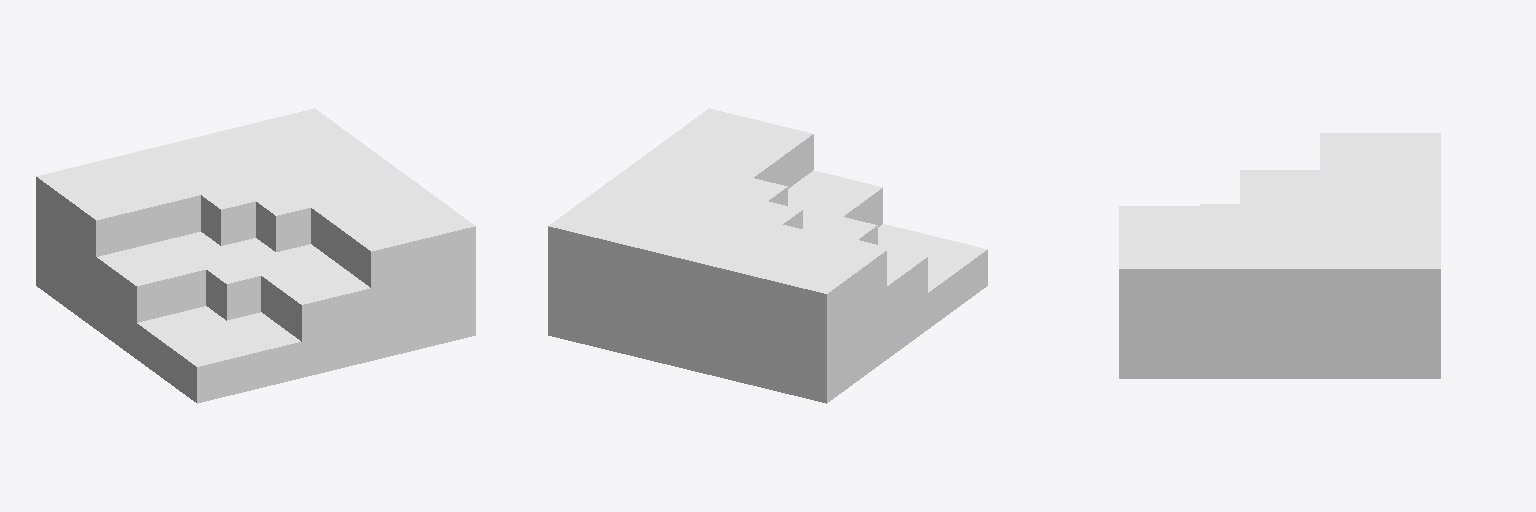
The model's file is beach_turn_90.obj.
3 renders of one model, left to right at view 1: azimuth 30°, elevation 25°; view 2: azimuth 150°, elevation 25°; view 3: azimuth 270°, elevation 25°, orthographic.
Parts seen in each view (by area): view 1: object 1; view 2: object 1; view 3: object 1.
Part boxes in pixels (x1,y1,x2,y2): object 1: (36,108,475,403); object 1: (548,108,987,403); object 1: (1119,133,1440,378).
Bounding box in the file's own units: 0.8 × 0.3 × 0.8.